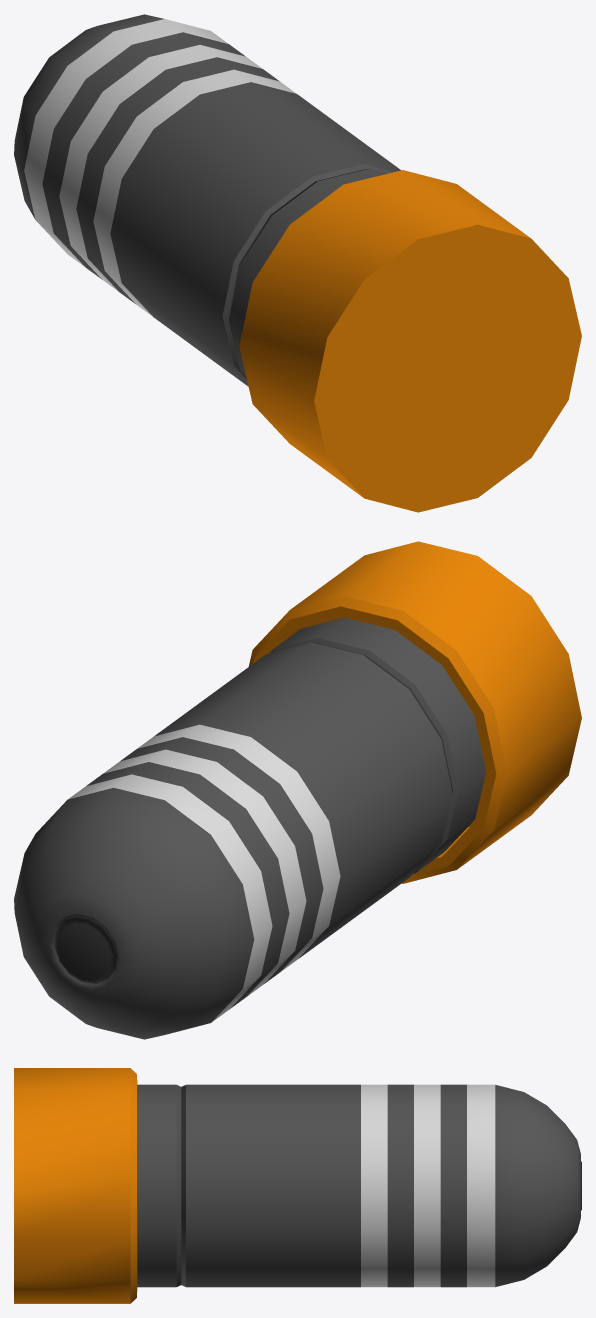
File: env_building_tanksmall_lod1.fbx
3 views of the same model, one above another, from view 1: azimuth 30°, elevation 25°; view 2: azimuth 150°, elevation 25°; view 3: azimuth 270°, elevation 25° (orthographic). The views are drawn at different scales.
Parts seen in each view (by area): view 1: tanksmall_lod1; view 2: tanksmall_lod1; view 3: tanksmall_lod1.
Part boxes in pixels (x1,y1,x2,y2): tanksmall_lod1: (14,14,581,512); tanksmall_lod1: (14,541,581,1039); tanksmall_lod1: (14,1068,581,1303).
Bounding box in the file's own units: 95.51 × 93.12 × 225.
